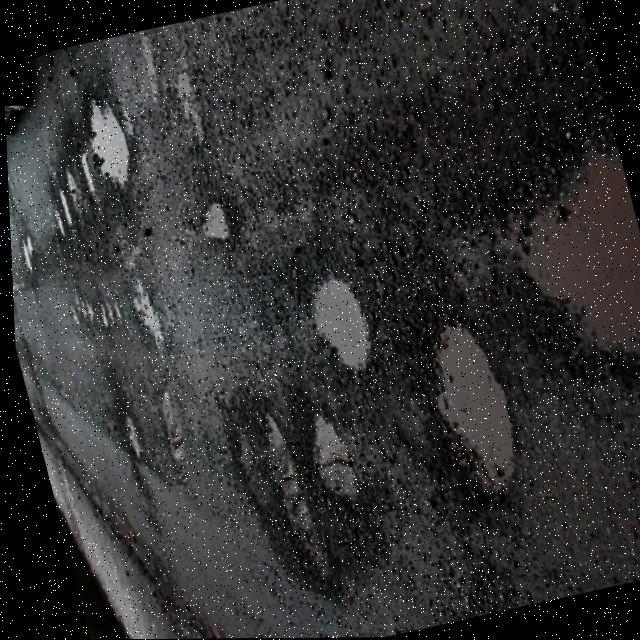pothole: (454, 121, 640, 406), (398, 295, 534, 513), (234, 399, 336, 592), (282, 262, 379, 384), (62, 76, 146, 196), (291, 403, 367, 514), (174, 193, 236, 250)
